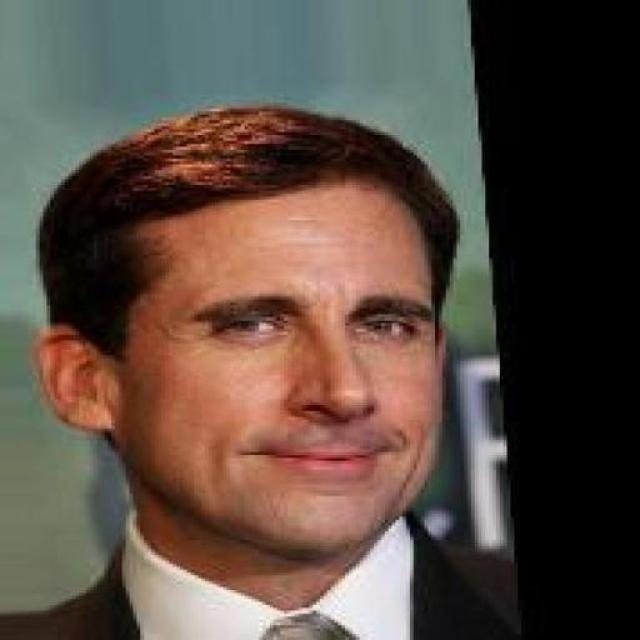bareface: (49, 142, 444, 558)
